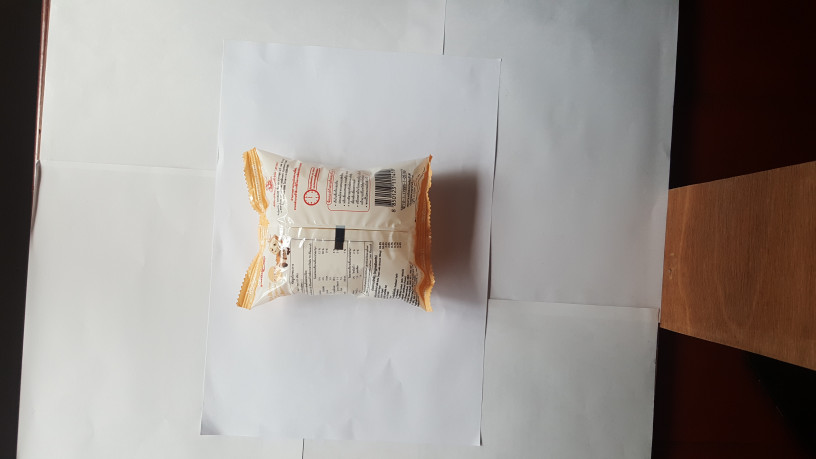farmhouse-sweetsandwich-almond: (235, 139, 446, 322)
